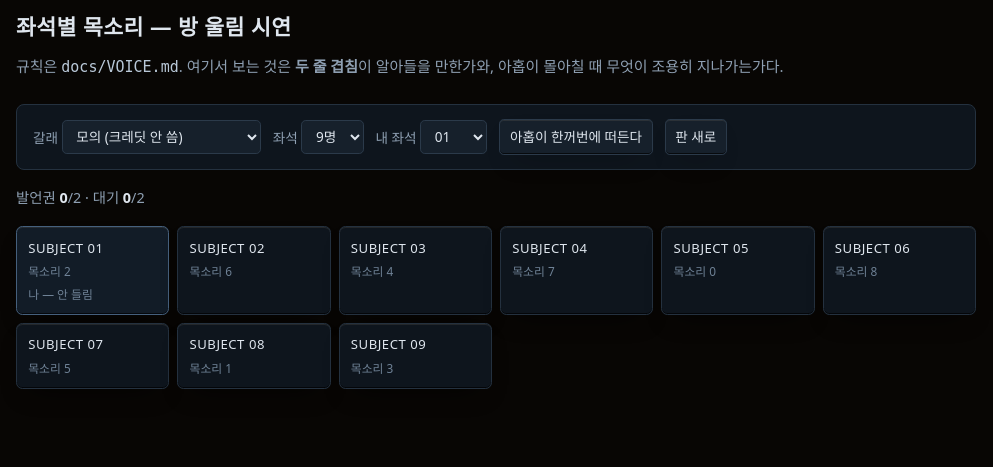
Scenario: /voice — 말하면 판정이 남는다 › 내 좌석으로 말하면 「내 말 — 나만 무음」으로 적힌다
Click the button "SUBJECT 01 목소리 2 나 — 안 들림": (93, 270) [16,226,169,315]
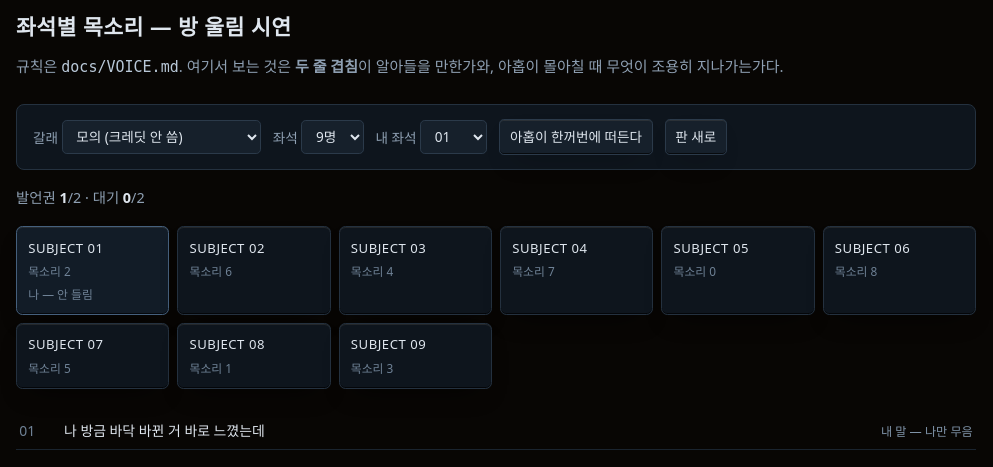
Result: the text "내 말 — 나만 무음" is shown at [881,422,973,443]
